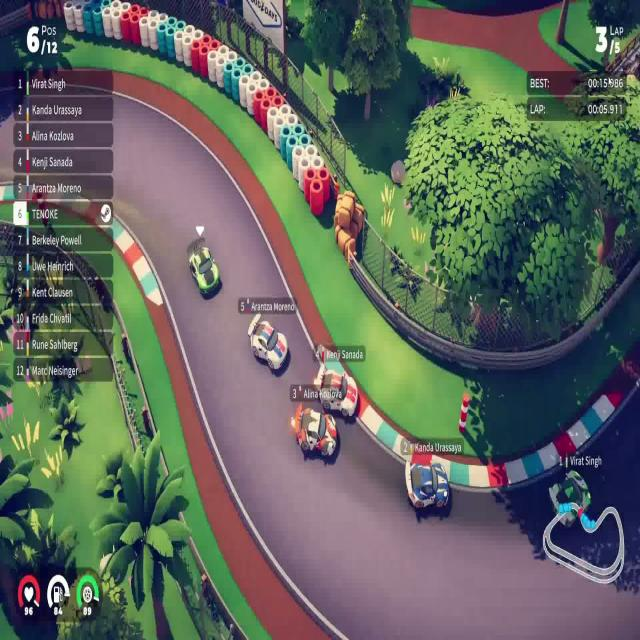car: (404, 451, 451, 516), (291, 402, 338, 460), (316, 362, 360, 419), (247, 311, 288, 372), (187, 242, 220, 296)
